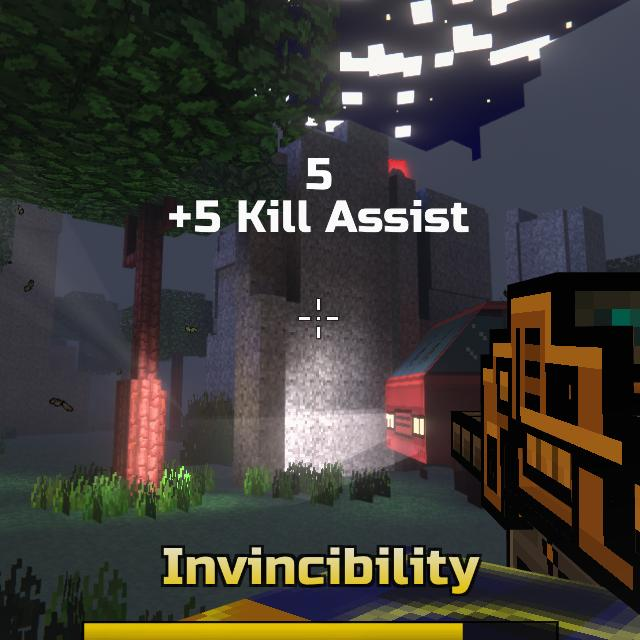Enemy: (389, 168, 405, 178)
